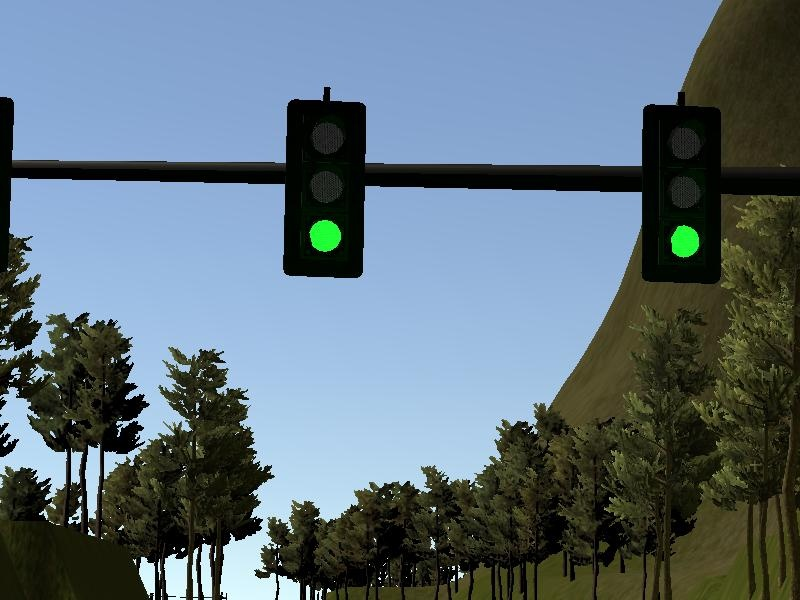green: (283, 89, 384, 282), (635, 90, 728, 287)
